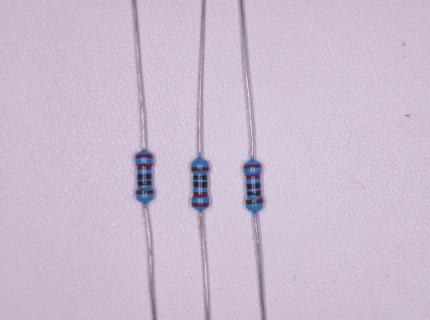Black band: (246, 182, 261, 189), (137, 173, 151, 180), (193, 182, 208, 188), (247, 190, 261, 196), (138, 181, 151, 186), (194, 175, 207, 180)
Brown band: (136, 189, 154, 195), (246, 198, 263, 204), (191, 167, 208, 171)
Red band: (137, 164, 153, 170), (243, 164, 261, 169), (246, 174, 260, 180), (193, 192, 209, 197), (135, 154, 153, 158), (192, 203, 209, 207)
